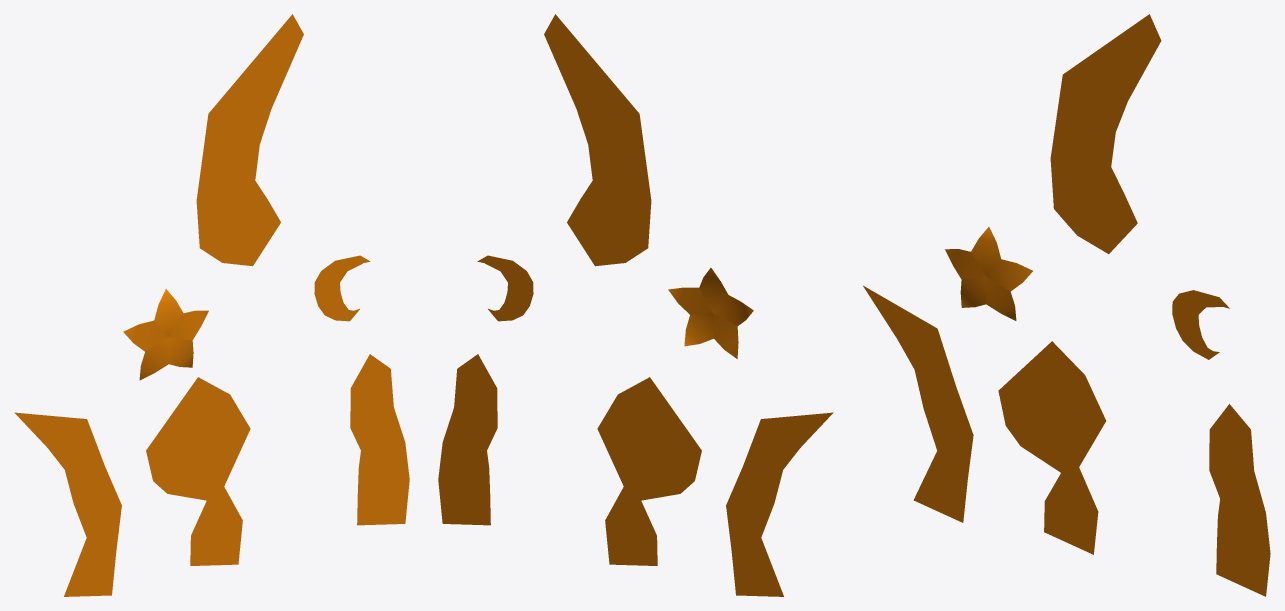
File: gamejam_Assets_glow.fbx
The picture shows the model from 3 angles, left to right: view 1: azimuth 30°, elevation 25°; view 2: azimuth 150°, elevation 25°; view 3: azimuth 330°, elevation 25°; orthographic projection. The views are drawn at different scales.
Visible parts, largest first — view 1: pGear1.008, pGear1.004, pGear1.002, pGear1.005, pGear1.003, pGear1.009; view 2: pGear1.008, pGear1.004, pGear1.002, pGear1.005, pGear1.003, pGear1.009; view 3: pGear1.008, pGear1.004, pGear1.002, pGear1.005, pGear1.003, pGear1.009.
Boxes of the visible parts, left/top/right/bottom form: pGear1.008: left=196, top=14, right=303, bottom=266; pGear1.004: left=146, top=377, right=250, bottom=565; pGear1.002: left=14, top=412, right=121, bottom=596; pGear1.005: left=350, top=354, right=409, bottom=525; pGear1.003: left=123, top=289, right=208, bottom=380; pGear1.009: left=314, top=255, right=370, bottom=321; pGear1.008: left=544, top=14, right=651, bottom=266; pGear1.004: left=597, top=377, right=701, bottom=565; pGear1.002: left=726, top=412, right=833, bottom=596; pGear1.005: left=438, top=354, right=497, bottom=525; pGear1.003: left=668, top=268, right=753, bottom=358; pGear1.009: left=477, top=255, right=533, bottom=321; pGear1.008: left=1050, top=14, right=1161, bottom=254; pGear1.004: left=998, top=341, right=1105, bottom=554; pGear1.002: left=863, top=285, right=973, bottom=522; pGear1.005: left=1209, top=404, right=1270, bottom=596; pGear1.003: left=945, top=227, right=1032, bottom=320; pGear1.009: left=1172, top=290, right=1229, bottom=359.
Bounding box in the file's own units: 534 × 693 × 40.7.
Materials: 1 (1 with a texture image).
